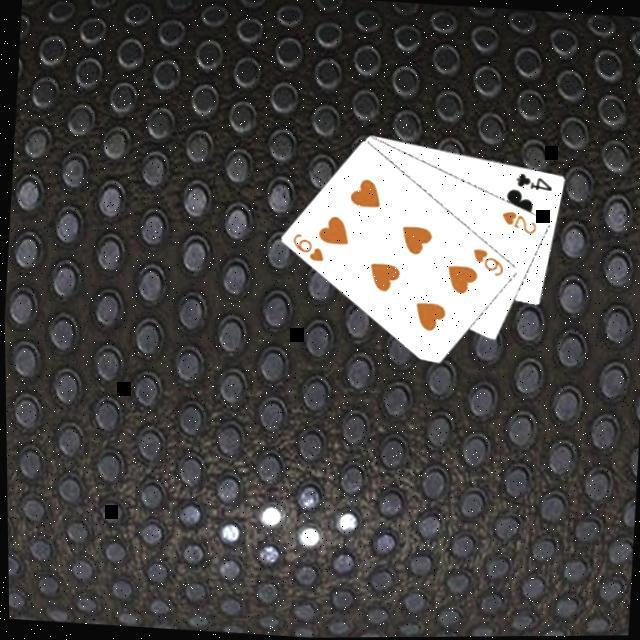2H: (498, 209, 542, 240)
4C: (514, 172, 557, 196)
6H: (469, 246, 509, 282), (289, 230, 329, 266)
